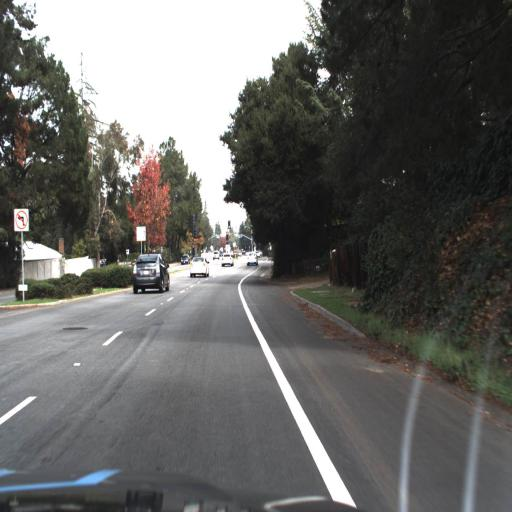car: (128, 247, 174, 300), (189, 251, 211, 281), (241, 248, 261, 276), (218, 250, 234, 276), (178, 247, 191, 273)
trafficLight-Green: (226, 217, 234, 234)
